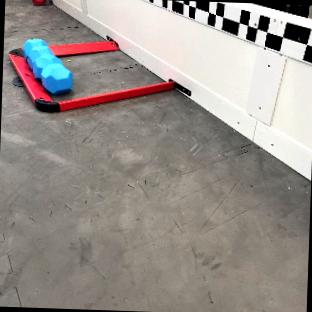V5_BLUE: (23, 39, 73, 94)
